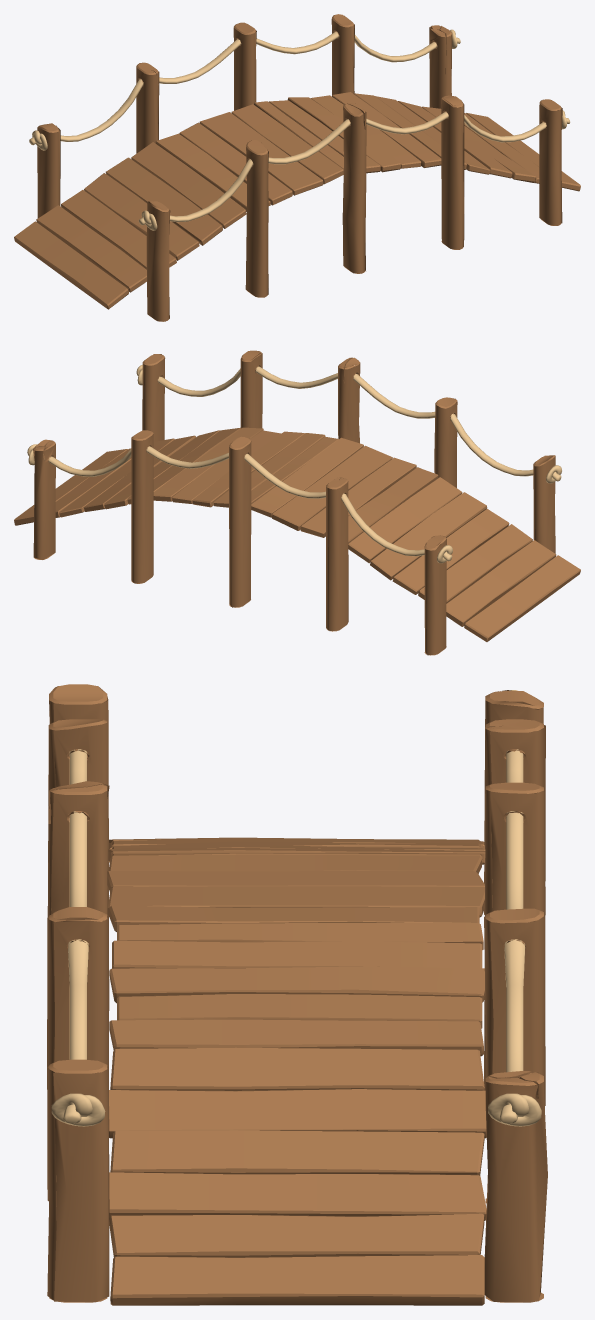
File: bridge.glb
The picture shows the model from 3 angles, top to bottom: view 1: azimuth 30°, elevation 25°; view 2: azimuth 150°, elevation 25°; view 3: azimuth 270°, elevation 25°; orthographic projection. The views are drawn at different scales.
Visible parts, largest first — view 1: Planks_mat_bridge_1_0.489, beams_mat_bridge_1_0, ropes_mat_bridge_2_0; view 2: Planks_mat_bridge_1_0.489, beams_mat_bridge_1_0, ropes_mat_bridge_2_0; view 3: Planks_mat_bridge_1_0.489, beams_mat_bridge_1_0, ropes_mat_bridge_2_0.
Boxes of the visible parts, x1=… form: Planks_mat_bridge_1_0.489: x1=14, y1=92, x2=580, y2=309; beams_mat_bridge_1_0: x1=37, y1=14, x2=562, y2=321; ropes_mat_bridge_2_0: x1=29, y1=29, x2=570, y2=230; Planks_mat_bridge_1_0.489: x1=14, y1=427, x2=580, y2=641; beams_mat_bridge_1_0: x1=33, y1=350, x2=555, y2=655; ropes_mat_bridge_2_0: x1=27, y1=365, x2=561, y2=563; Planks_mat_bridge_1_0.489: x1=107, y1=837, x2=486, y2=1305; beams_mat_bridge_1_0: x1=47, y1=684, x2=547, y2=1302; ropes_mat_bridge_2_0: x1=51, y1=690, x2=541, y2=1126.
Size of the model in its own units: 11.08 by 3.59 by 5.07.
